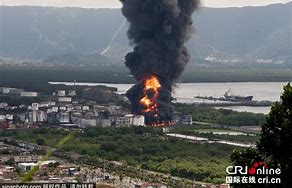smoke: (121, 1, 196, 121)
